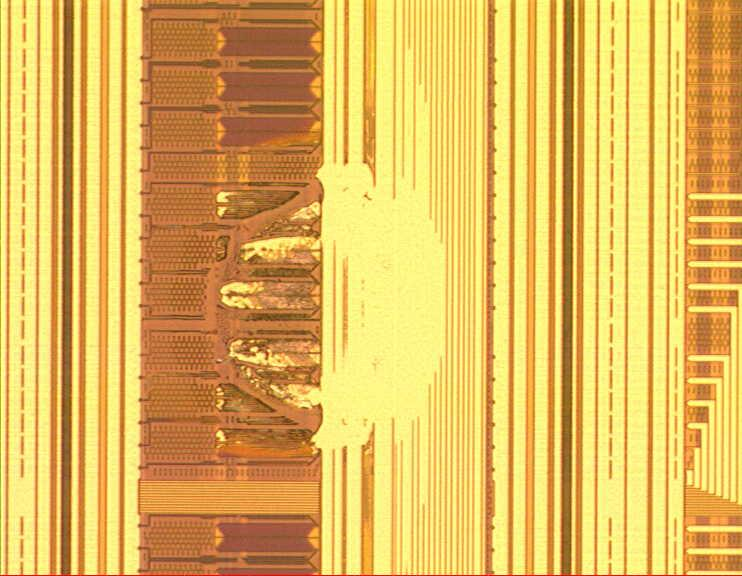BLOCK ETCH: (167, 125, 453, 471)
